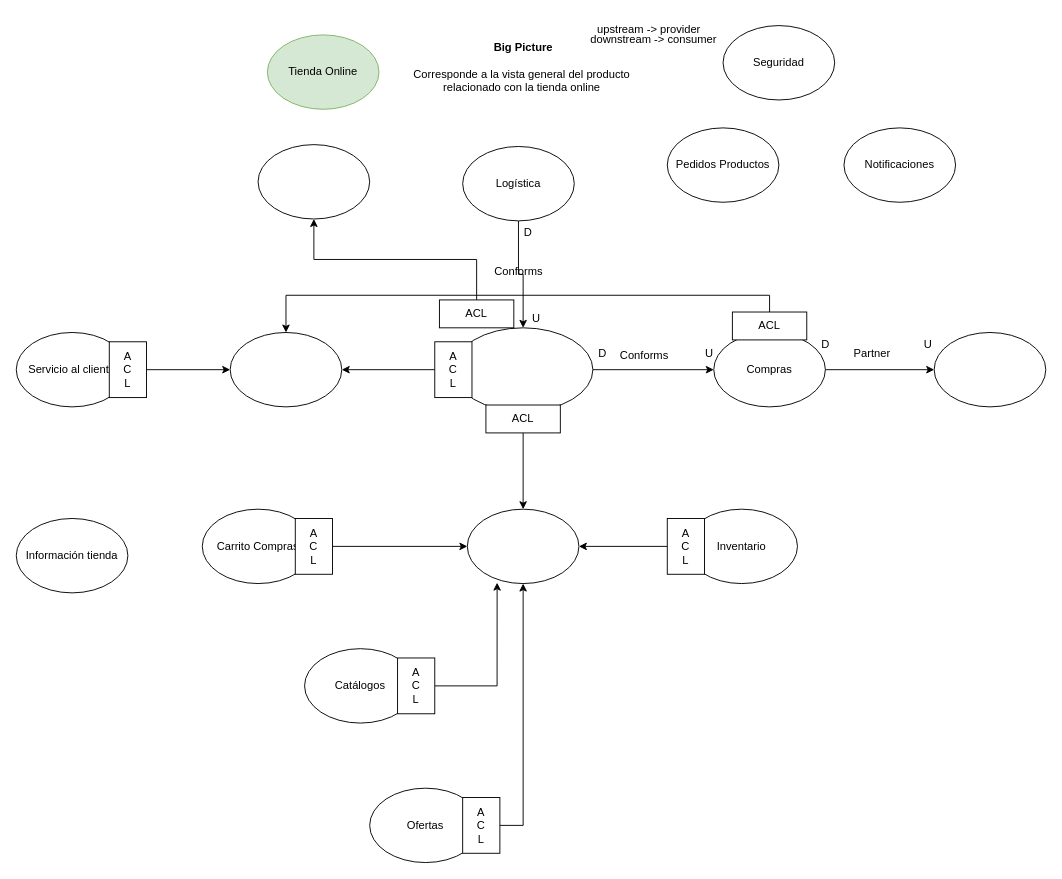
This 1062x879 diagram has some shape labels left out. Each missing label, with the box of its shape:
Clientes: (229, 332, 342, 407)
Pagos: (933, 332, 1046, 407)
Pedidos Clientes: (452, 327, 593, 412)
Productos: (466, 508, 579, 584)
Puntos distriibución: (257, 144, 370, 219)
